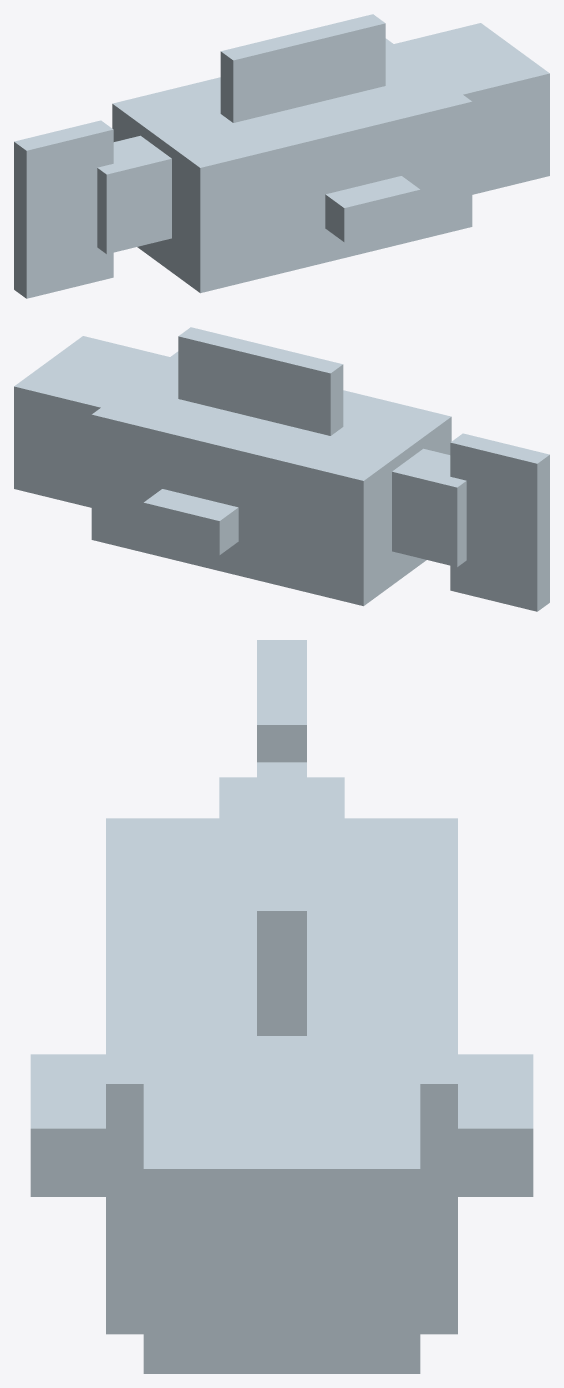
File: fish_ghost_lanternfish.glb
The picture shows the model from 3 angles, top to bottom: view 1: azimuth 30°, elevation 25°; view 2: azimuth 150°, elevation 25°; view 3: azimuth 270°, elevation 25°; orthographic projection. The views are drawn at different scales.
Parts seen in each view (by area): view 1: species.ghost_lanternfish; view 2: species.ghost_lanternfish; view 3: species.ghost_lanternfish.
Boxes of the visible parts, <box> form: species.ghost_lanternfish: <box>14,14,549,298</box>; species.ghost_lanternfish: <box>14,327,549,611</box>; species.ghost_lanternfish: <box>30,640,533,1373</box>.
Size of the model in its own units: 0.3 by 0.1088 by 0.1319.
